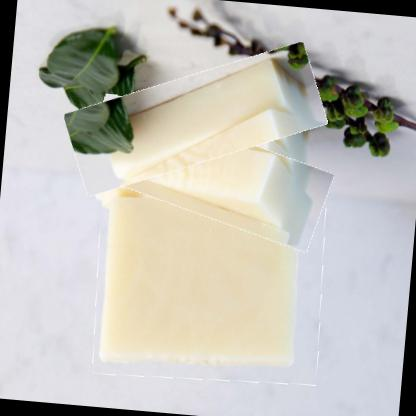soap: (87, 181, 330, 391), (61, 43, 329, 194), (78, 106, 335, 238)
